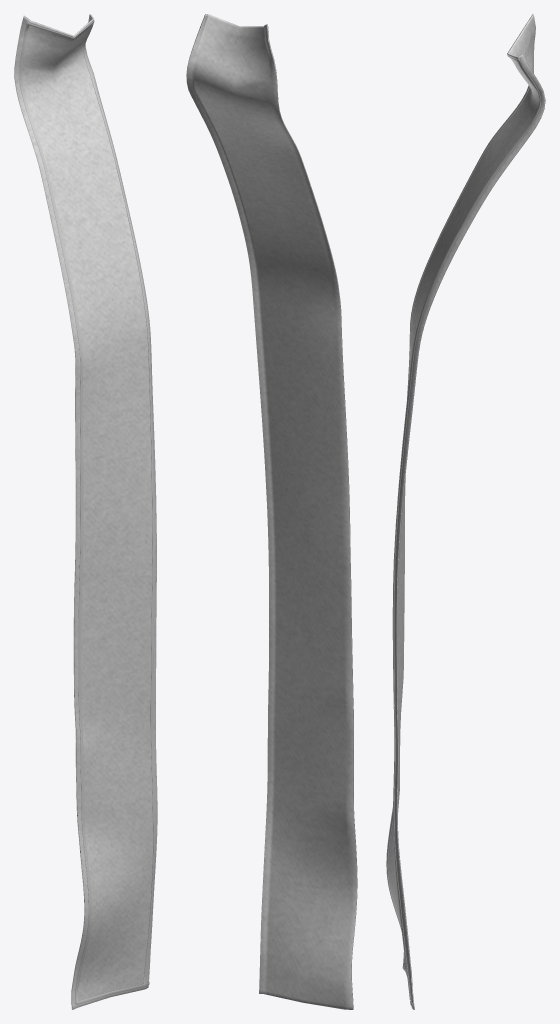
File: Jac_Planka.glb
3 renders of one model, left to right at view 1: azimuth 30°, elevation 25°; view 2: azimuth 150°, elevation 25°; view 3: azimuth 270°, elevation 25°, orthographic. The views are drawn at different scales.
Visible parts, largest first — view 1: Jac_Planka1, Rope1; view 2: Jac_Planka1; view 3: Jac_Planka1, Rope1.
Part boxes in pixels (left/top/right/bottom): Jac_Planka1: left=14, top=14, right=157, bottom=1009; Rope1: left=19, top=20, right=155, bottom=1005; Jac_Planka1: left=186, top=14, right=357, bottom=1009; Jac_Planka1: left=386, top=14, right=545, bottom=1009; Rope1: left=386, top=55, right=540, bottom=1006.
Size of the model in its own units: 0.1144 by 1.19 by 0.1784.
Materials: 2 (2 with a texture image).
